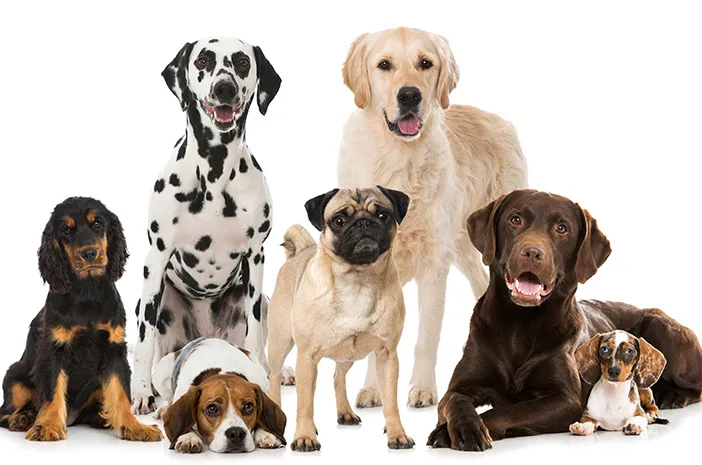anjing: (132, 26, 287, 335), (8, 181, 156, 452), (284, 157, 415, 456), (455, 177, 605, 437), (320, 10, 486, 158), (153, 336, 295, 458), (565, 324, 677, 441)
